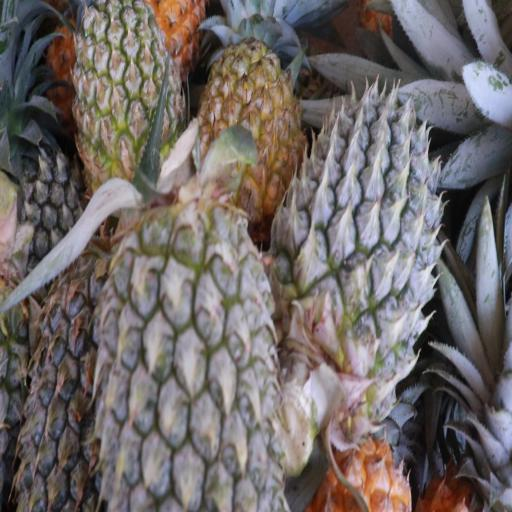------------------------------: (76, 0, 186, 182)
Pineapple - v8 v1: (193, 36, 294, 205)
